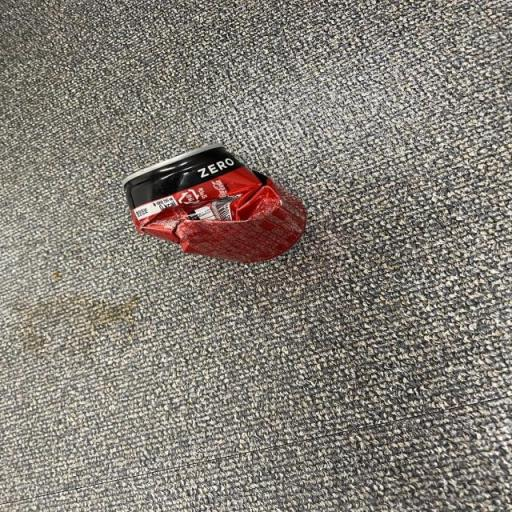metal: (99, 136, 311, 274)
